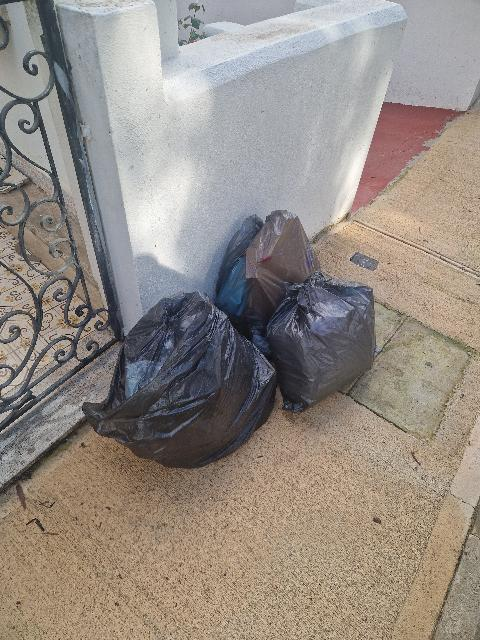Mixed -Black-: (83, 291, 277, 468)
Recyclable -Grey-: (267, 272, 376, 413), (216, 210, 320, 356)
